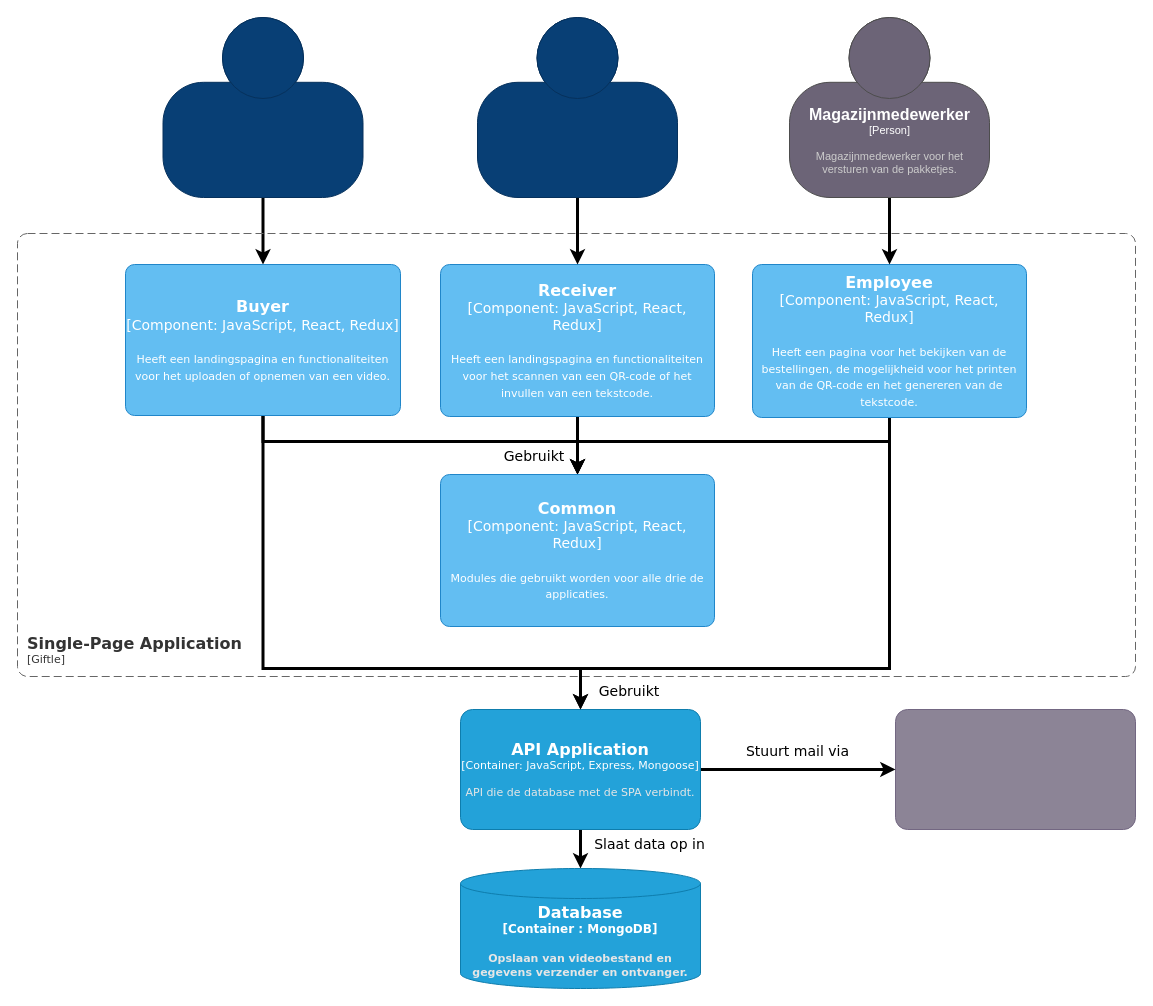
This 1153x1006 diagram has some shape labels left out. The centre of each missing label's shape, as x and y in pixels:
Ontvanger [Person] Iemand die een (video)boodschap wil bekijken.: (577,107)
SendPulse [Software System] SMTP Service voor het mailen.: (1015,769)
Verzender / Koper [Person] Iemand die een (video)boodschap wil versturen.: (262,107)
